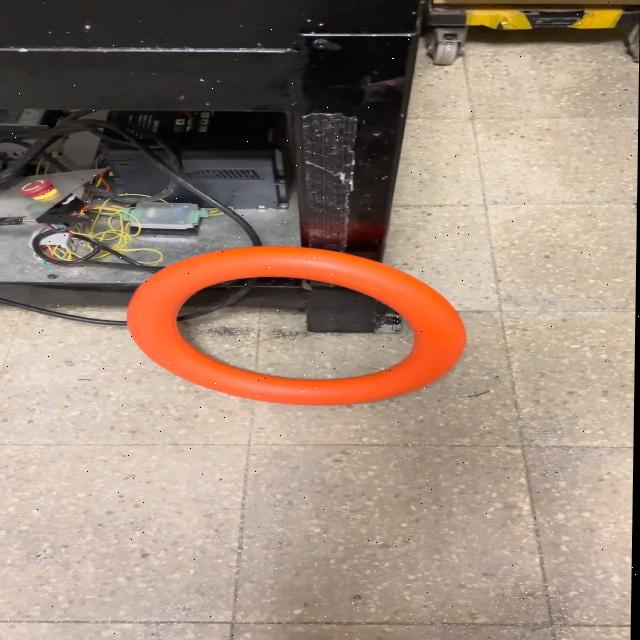note: (123, 244, 472, 408)
